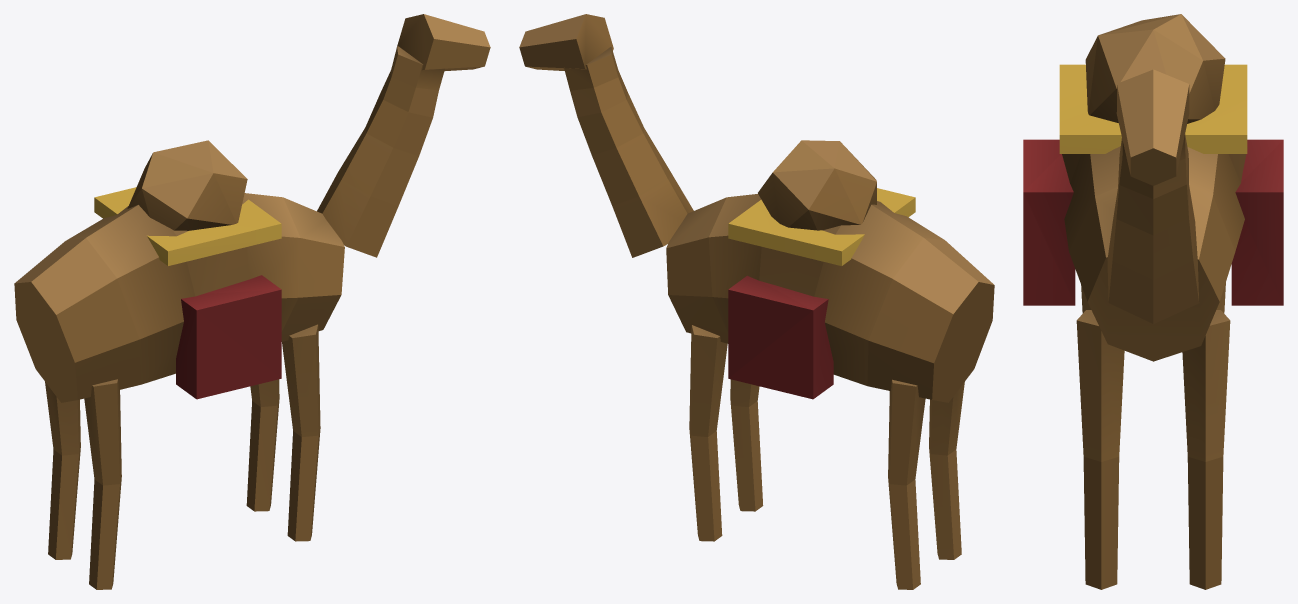
The picture shows the model from 3 angles, left to right: view 1: azimuth 30°, elevation 25°; view 2: azimuth 150°, elevation 25°; view 3: azimuth 270°, elevation 25°; orthographic projection. The views are drawn at different scales.
Parts seen in each view (by area): view 1: base; view 2: base; view 3: base.
Part boxes in pixels (bbox=[...]): base: bbox=[14, 14, 490, 589]; base: bbox=[519, 14, 994, 589]; base: bbox=[1023, 14, 1283, 589].
Bounding box in the file's own units: 0.6388 × 0.6383 × 0.25.
